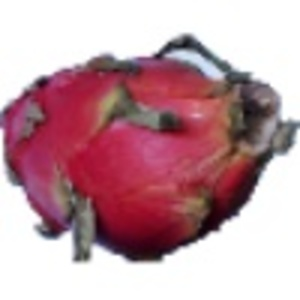pitaia: (1, 34, 300, 264)
